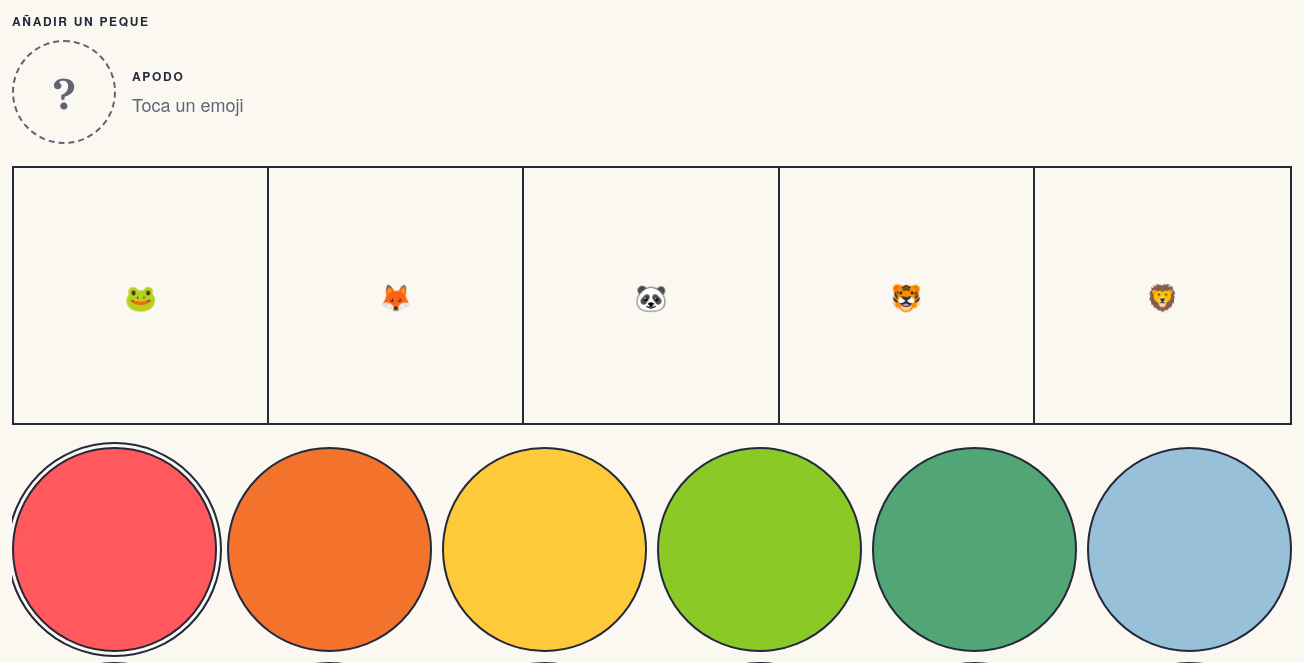
Test: <ChildBuilder /> › reveals and focuses the nickname field only on purpose
The width and height of the screenshot is (1304, 663).
Click the radio button named "Rana". click: (142, 297)
box: [14, 168, 269, 425]
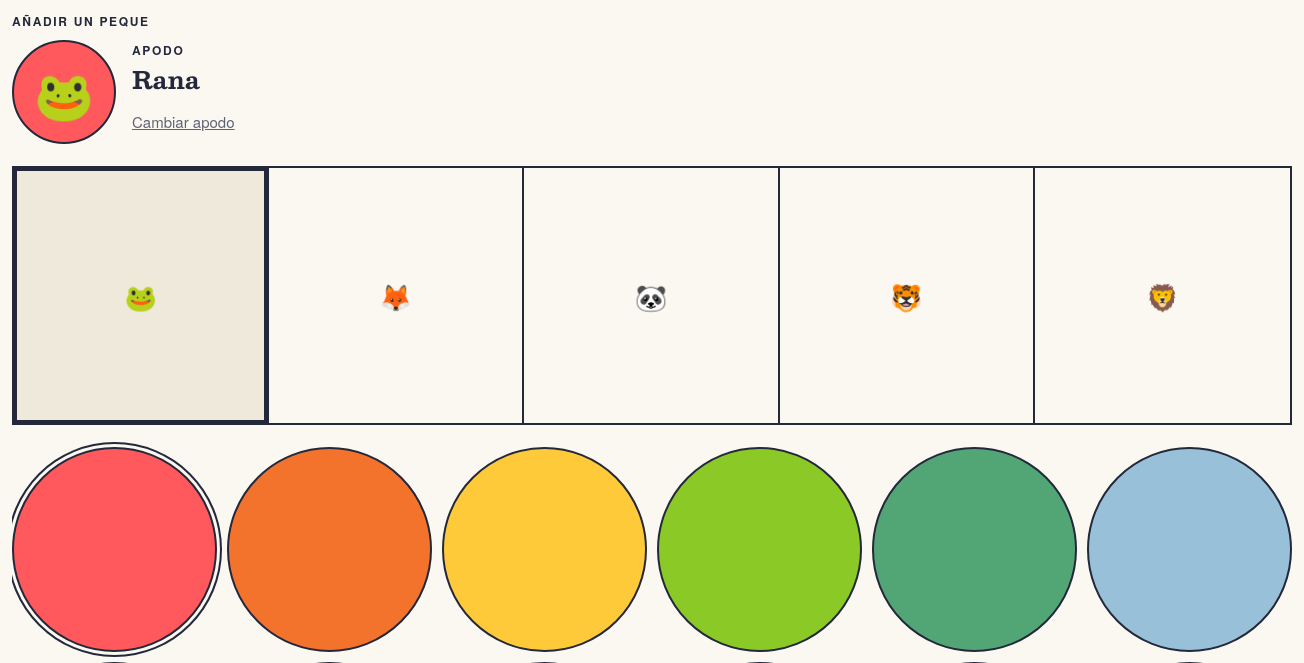
Click the button "Cambiar apodo". click: (183, 121)
box: [132, 99, 234, 143]
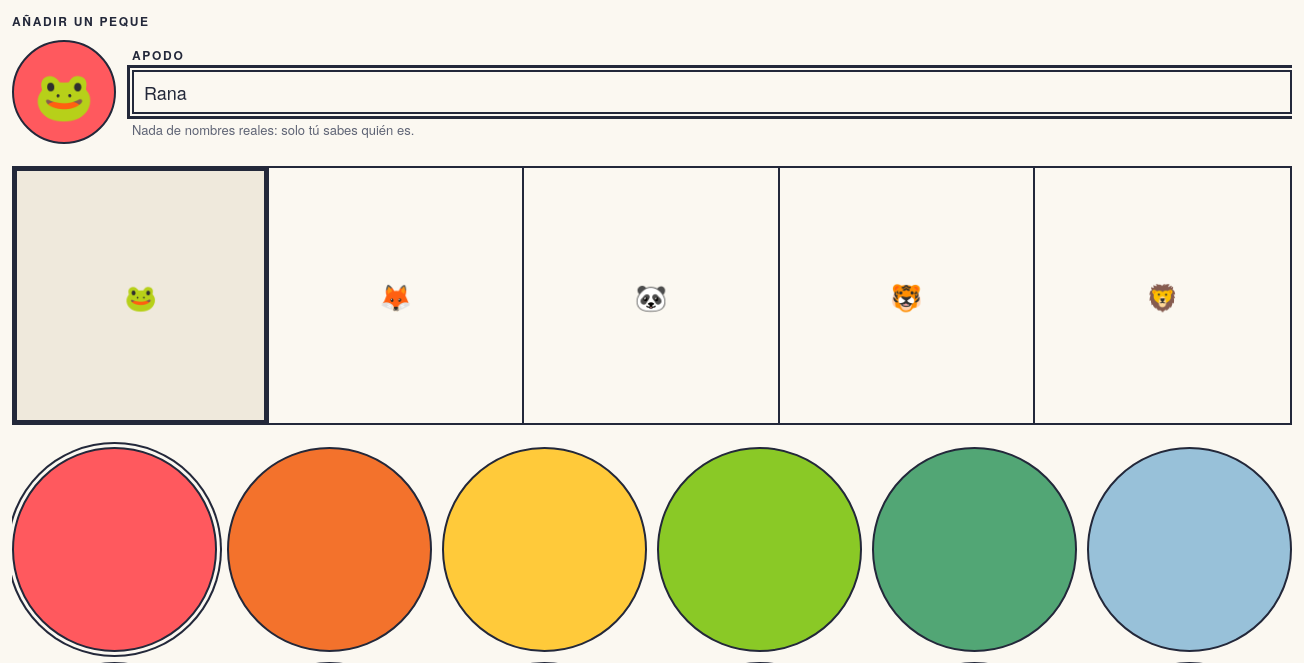
Expected: the field labelled "Apodo" holds "Rana", [132, 70, 1292, 114]
Expected: the text "Nada de nombres reales: solo tú sabes quién es." is shown, [132, 120, 414, 138]
